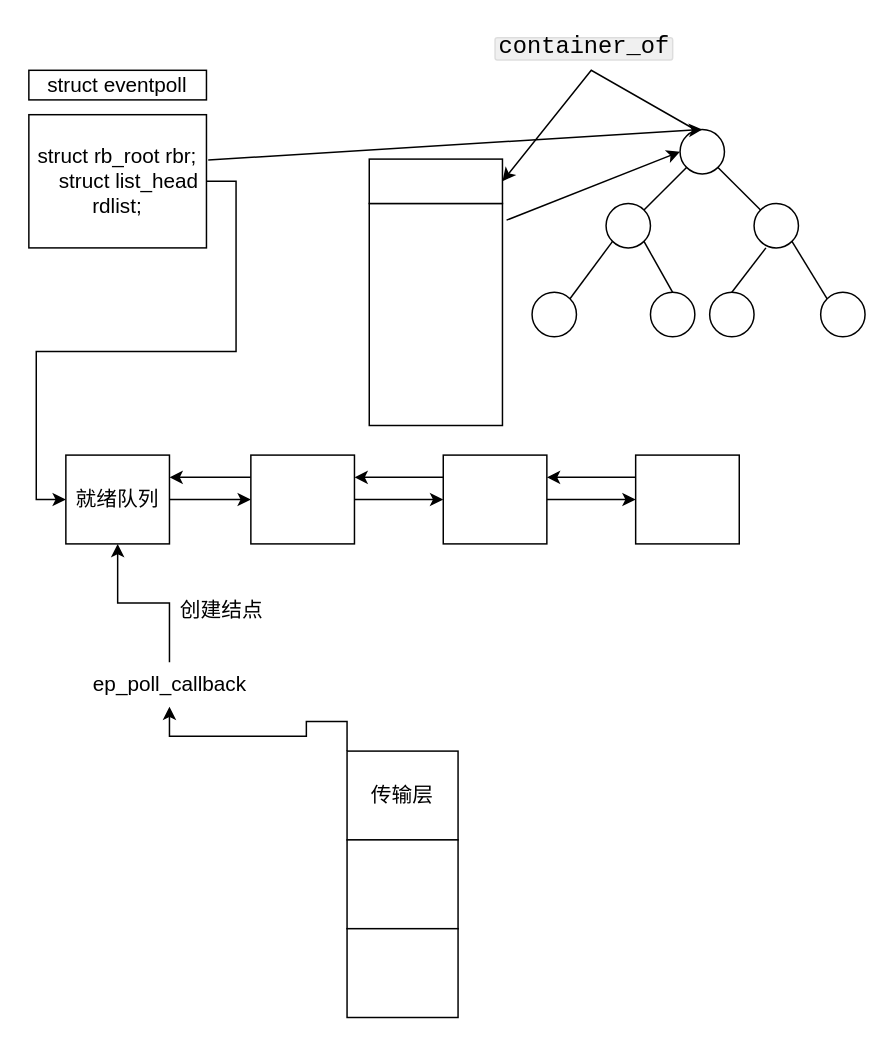
The diagram is 891 pixels wide and 1043 high, and some of its shapes have lost their labels. The centre of each missing label's shape, as x and y in pixels:
"struct epitem" belongs at point (435, 181).
"struct rb_node* rbn; int fd; struct list_head rdllink;" belongs at point (435, 314).
